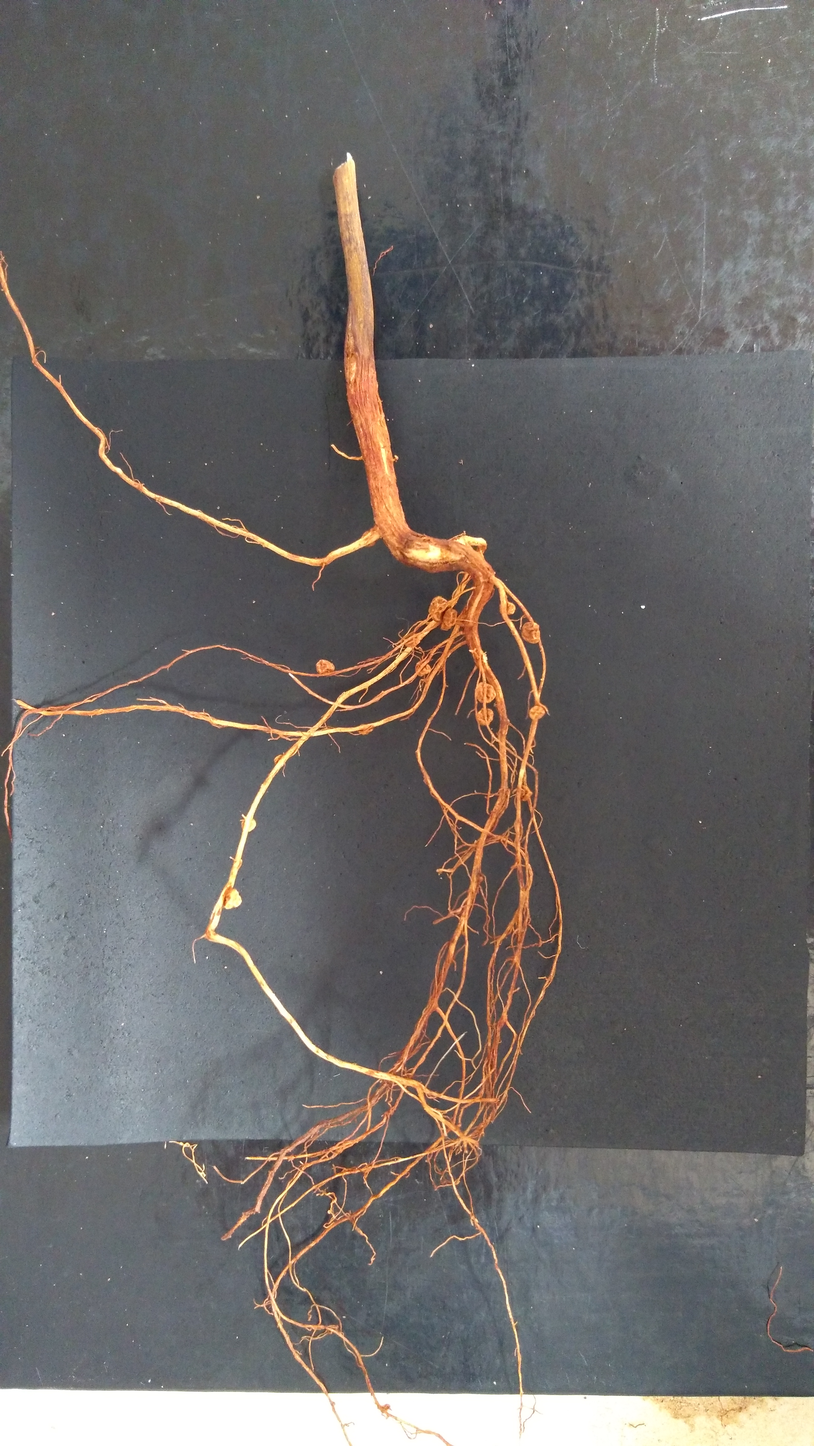nodule: (426, 594, 448, 623), (519, 620, 543, 645), (473, 681, 497, 705), (221, 886, 244, 911), (475, 707, 495, 727), (314, 658, 336, 675), (527, 704, 547, 721), (518, 783, 535, 802), (503, 594, 517, 617), (442, 607, 458, 627), (414, 661, 433, 677), (240, 817, 257, 833), (356, 722, 375, 736), (272, 753, 283, 766), (380, 1403, 390, 1415)
